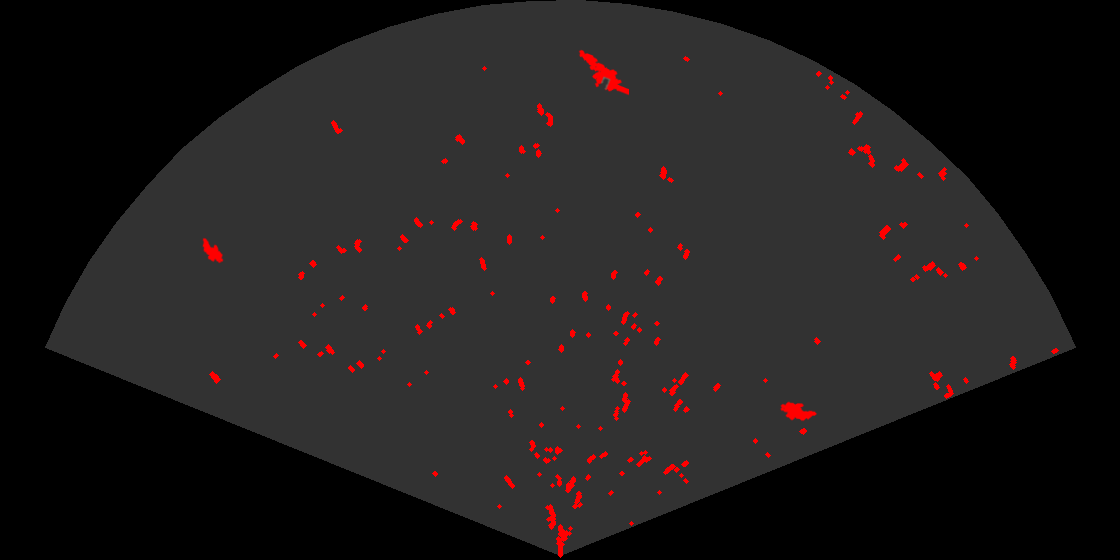AUV: (779, 400, 819, 423), (201, 236, 225, 265)
frogman: (577, 48, 629, 97)
